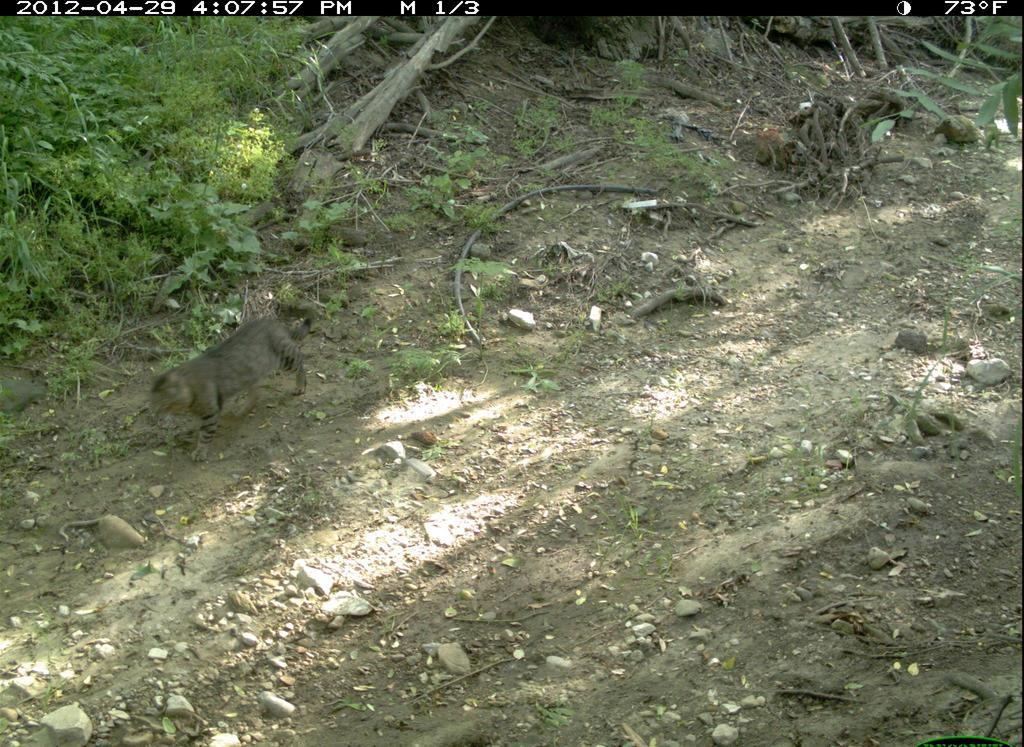cat: (141, 294, 327, 468)
